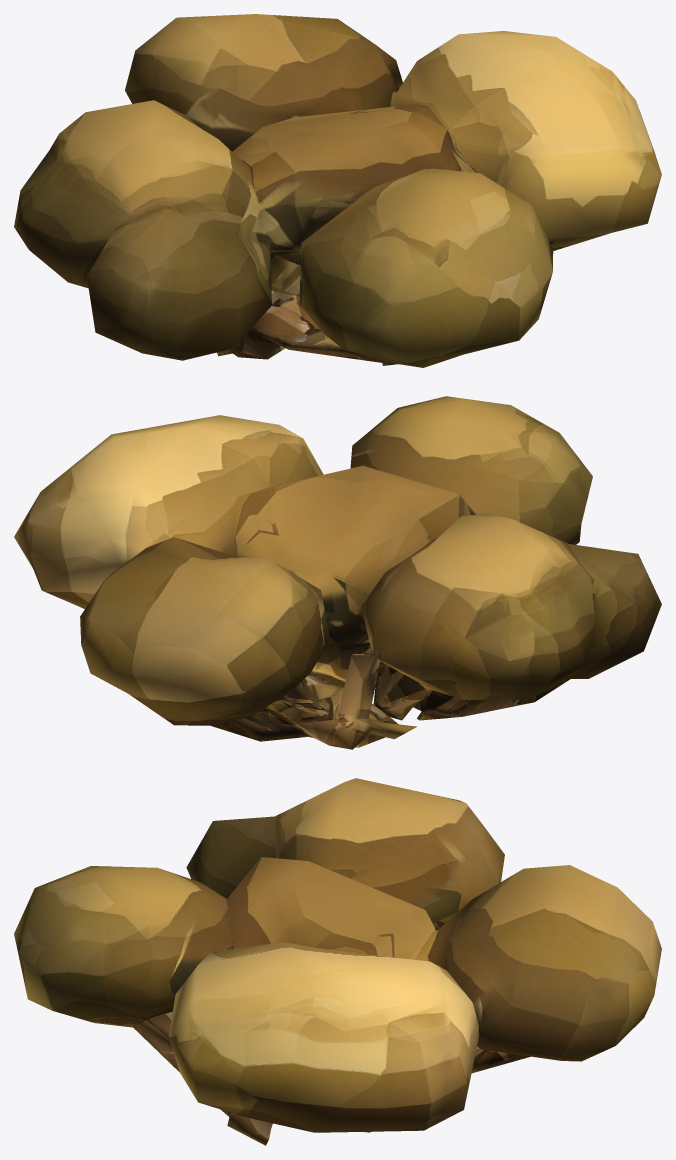
The model's file is EX_Env_Bush.fbx.
The picture shows the model from 3 angles, top to bottom: view 1: azimuth 30°, elevation 25°; view 2: azimuth 150°, elevation 25°; view 3: azimuth 270°, elevation 25°; orthographic projection. The views are drawn at different scales.
Visible parts, largest first — view 1: texture_mapping; view 2: texture_mapping; view 3: texture_mapping.
Part boxes in pixels (x1,y1,x2,y2): texture_mapping: (14, 14, 661, 367); texture_mapping: (14, 396, 661, 749); texture_mapping: (14, 778, 661, 1145).
Size of the model in its own units: 0.9688 by 0.9882 by 0.3824.
1 material, 1 textured.
